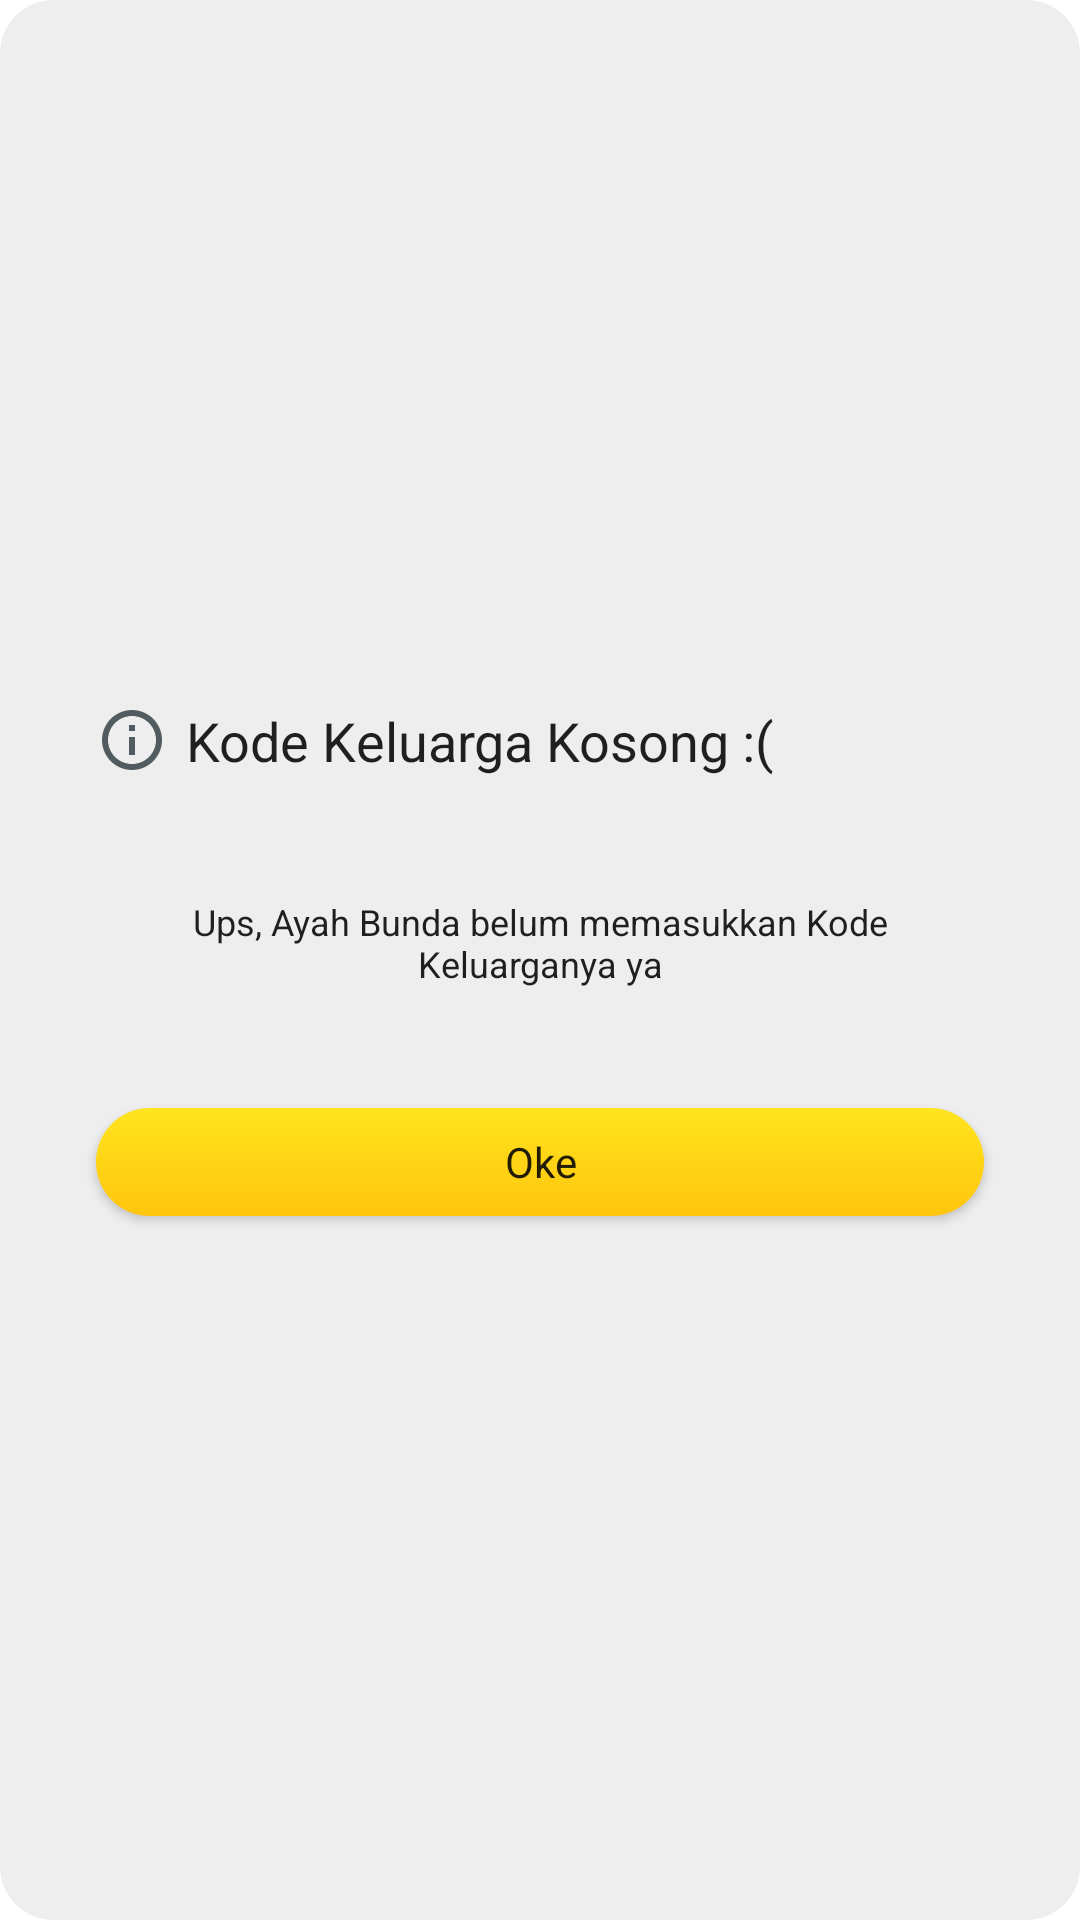

Icon click points for this 1080w x 1920h phone screenshot, format point (x, y):
info: point (132, 740)
